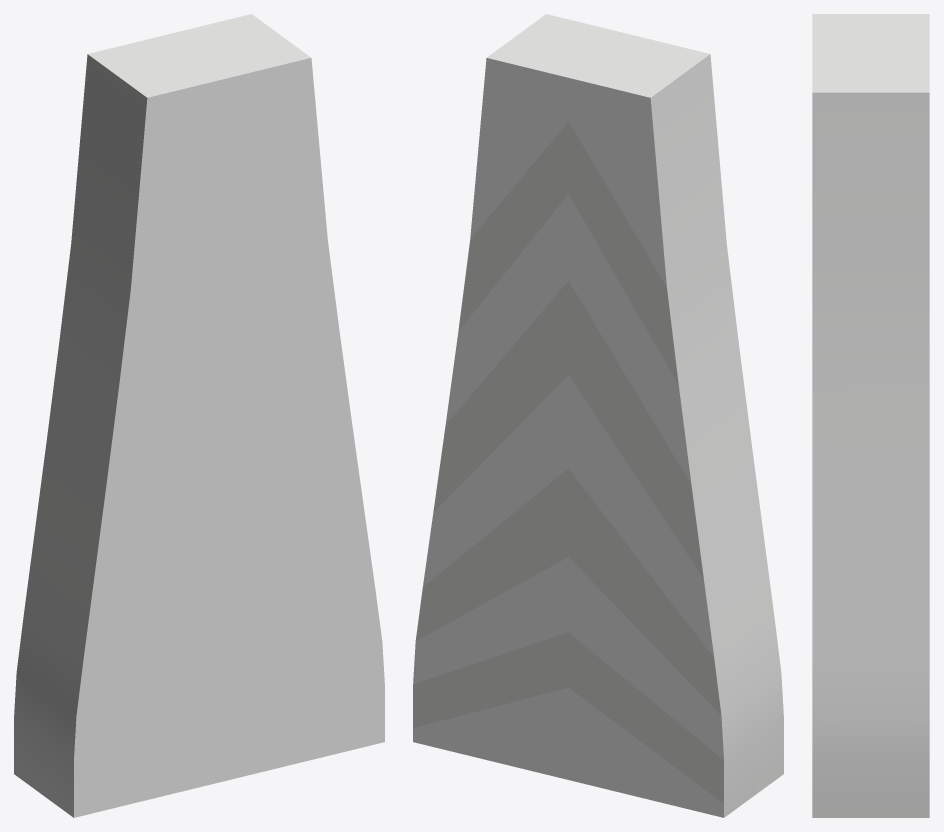
File: endRoad.fbx
3 views of the same model, side by side, from view 1: azimuth 30°, elevation 25°; view 2: azimuth 150°, elevation 25°; view 3: azimuth 270°, elevation 25° (orthographic).
Parts seen in each view (by area): view 1: roadSmootBorder; view 2: roadSmootBorder; view 3: roadSmootBorder.
Part boxes in pixels (x1,y1,x2,y2): roadSmootBorder: [14, 14, 384, 817]; roadSmootBorder: [413, 14, 783, 817]; roadSmootBorder: [812, 14, 929, 817].
Size of the model in its own units: 300 by 647 by 100.
